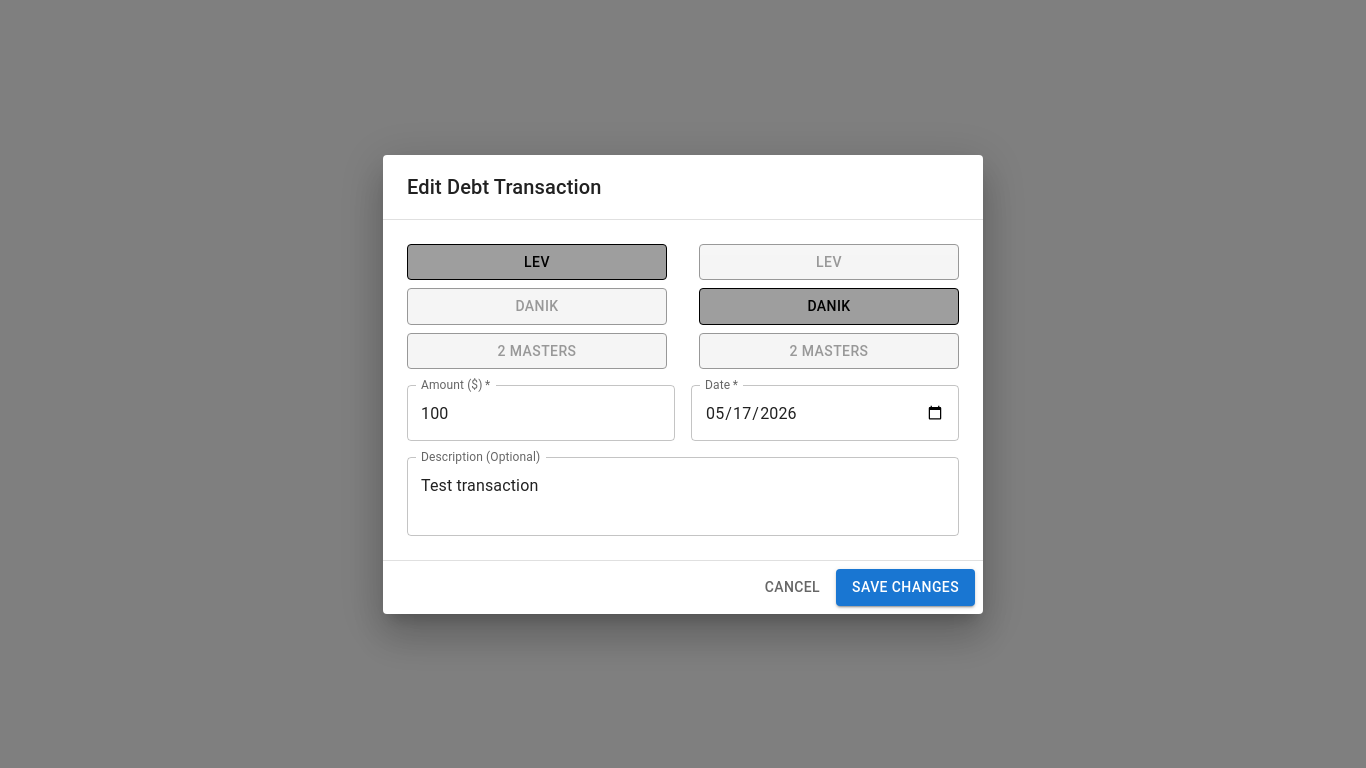
Test case: EditTransactionDialog › disables save button for invalid amount
This screenshot has width=1366, height=768.
Set invalid amount
Replace the text in the number field labelled "Amount ($) *" with "-10" at point(541, 413), box x1=407 y1=385 x2=675 y2=441
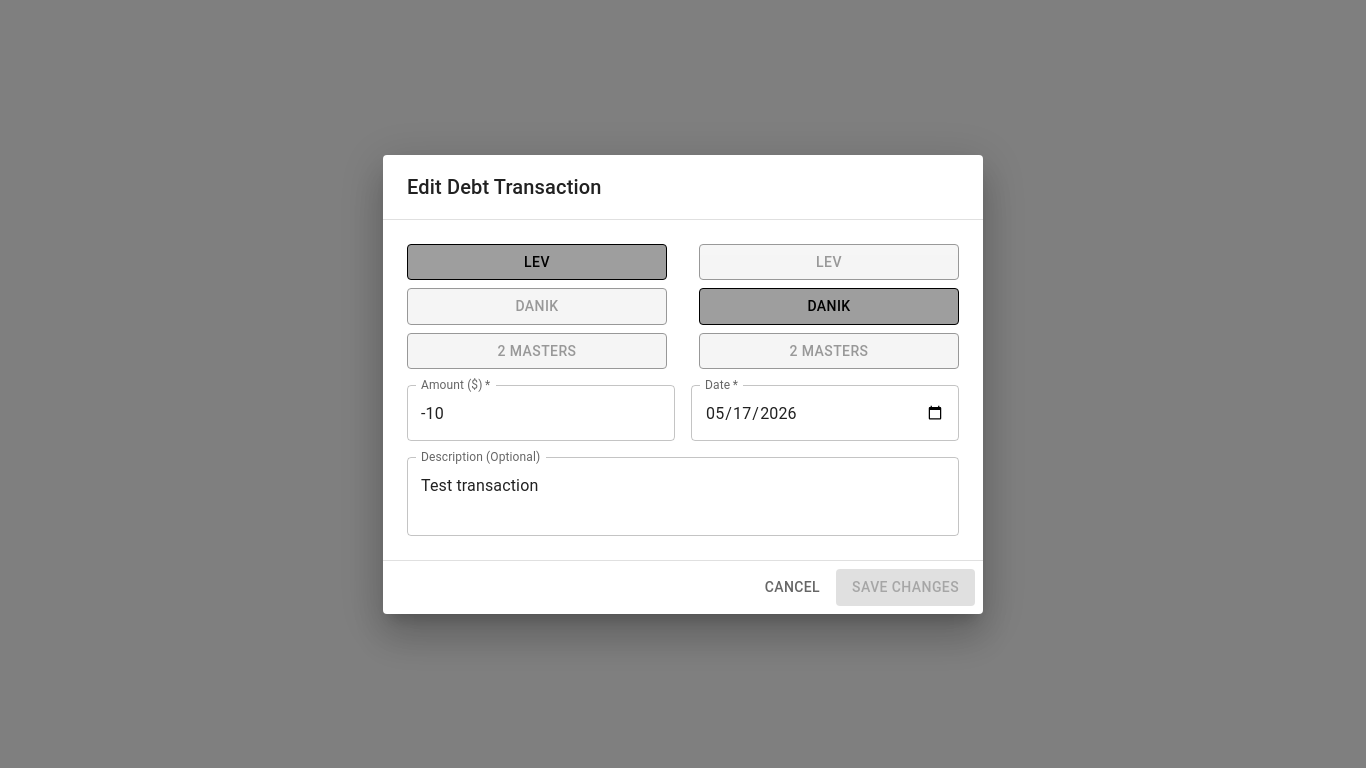
expect the button "Save Changes" is disabled: met, box x1=836 y1=569 x2=975 y2=606
